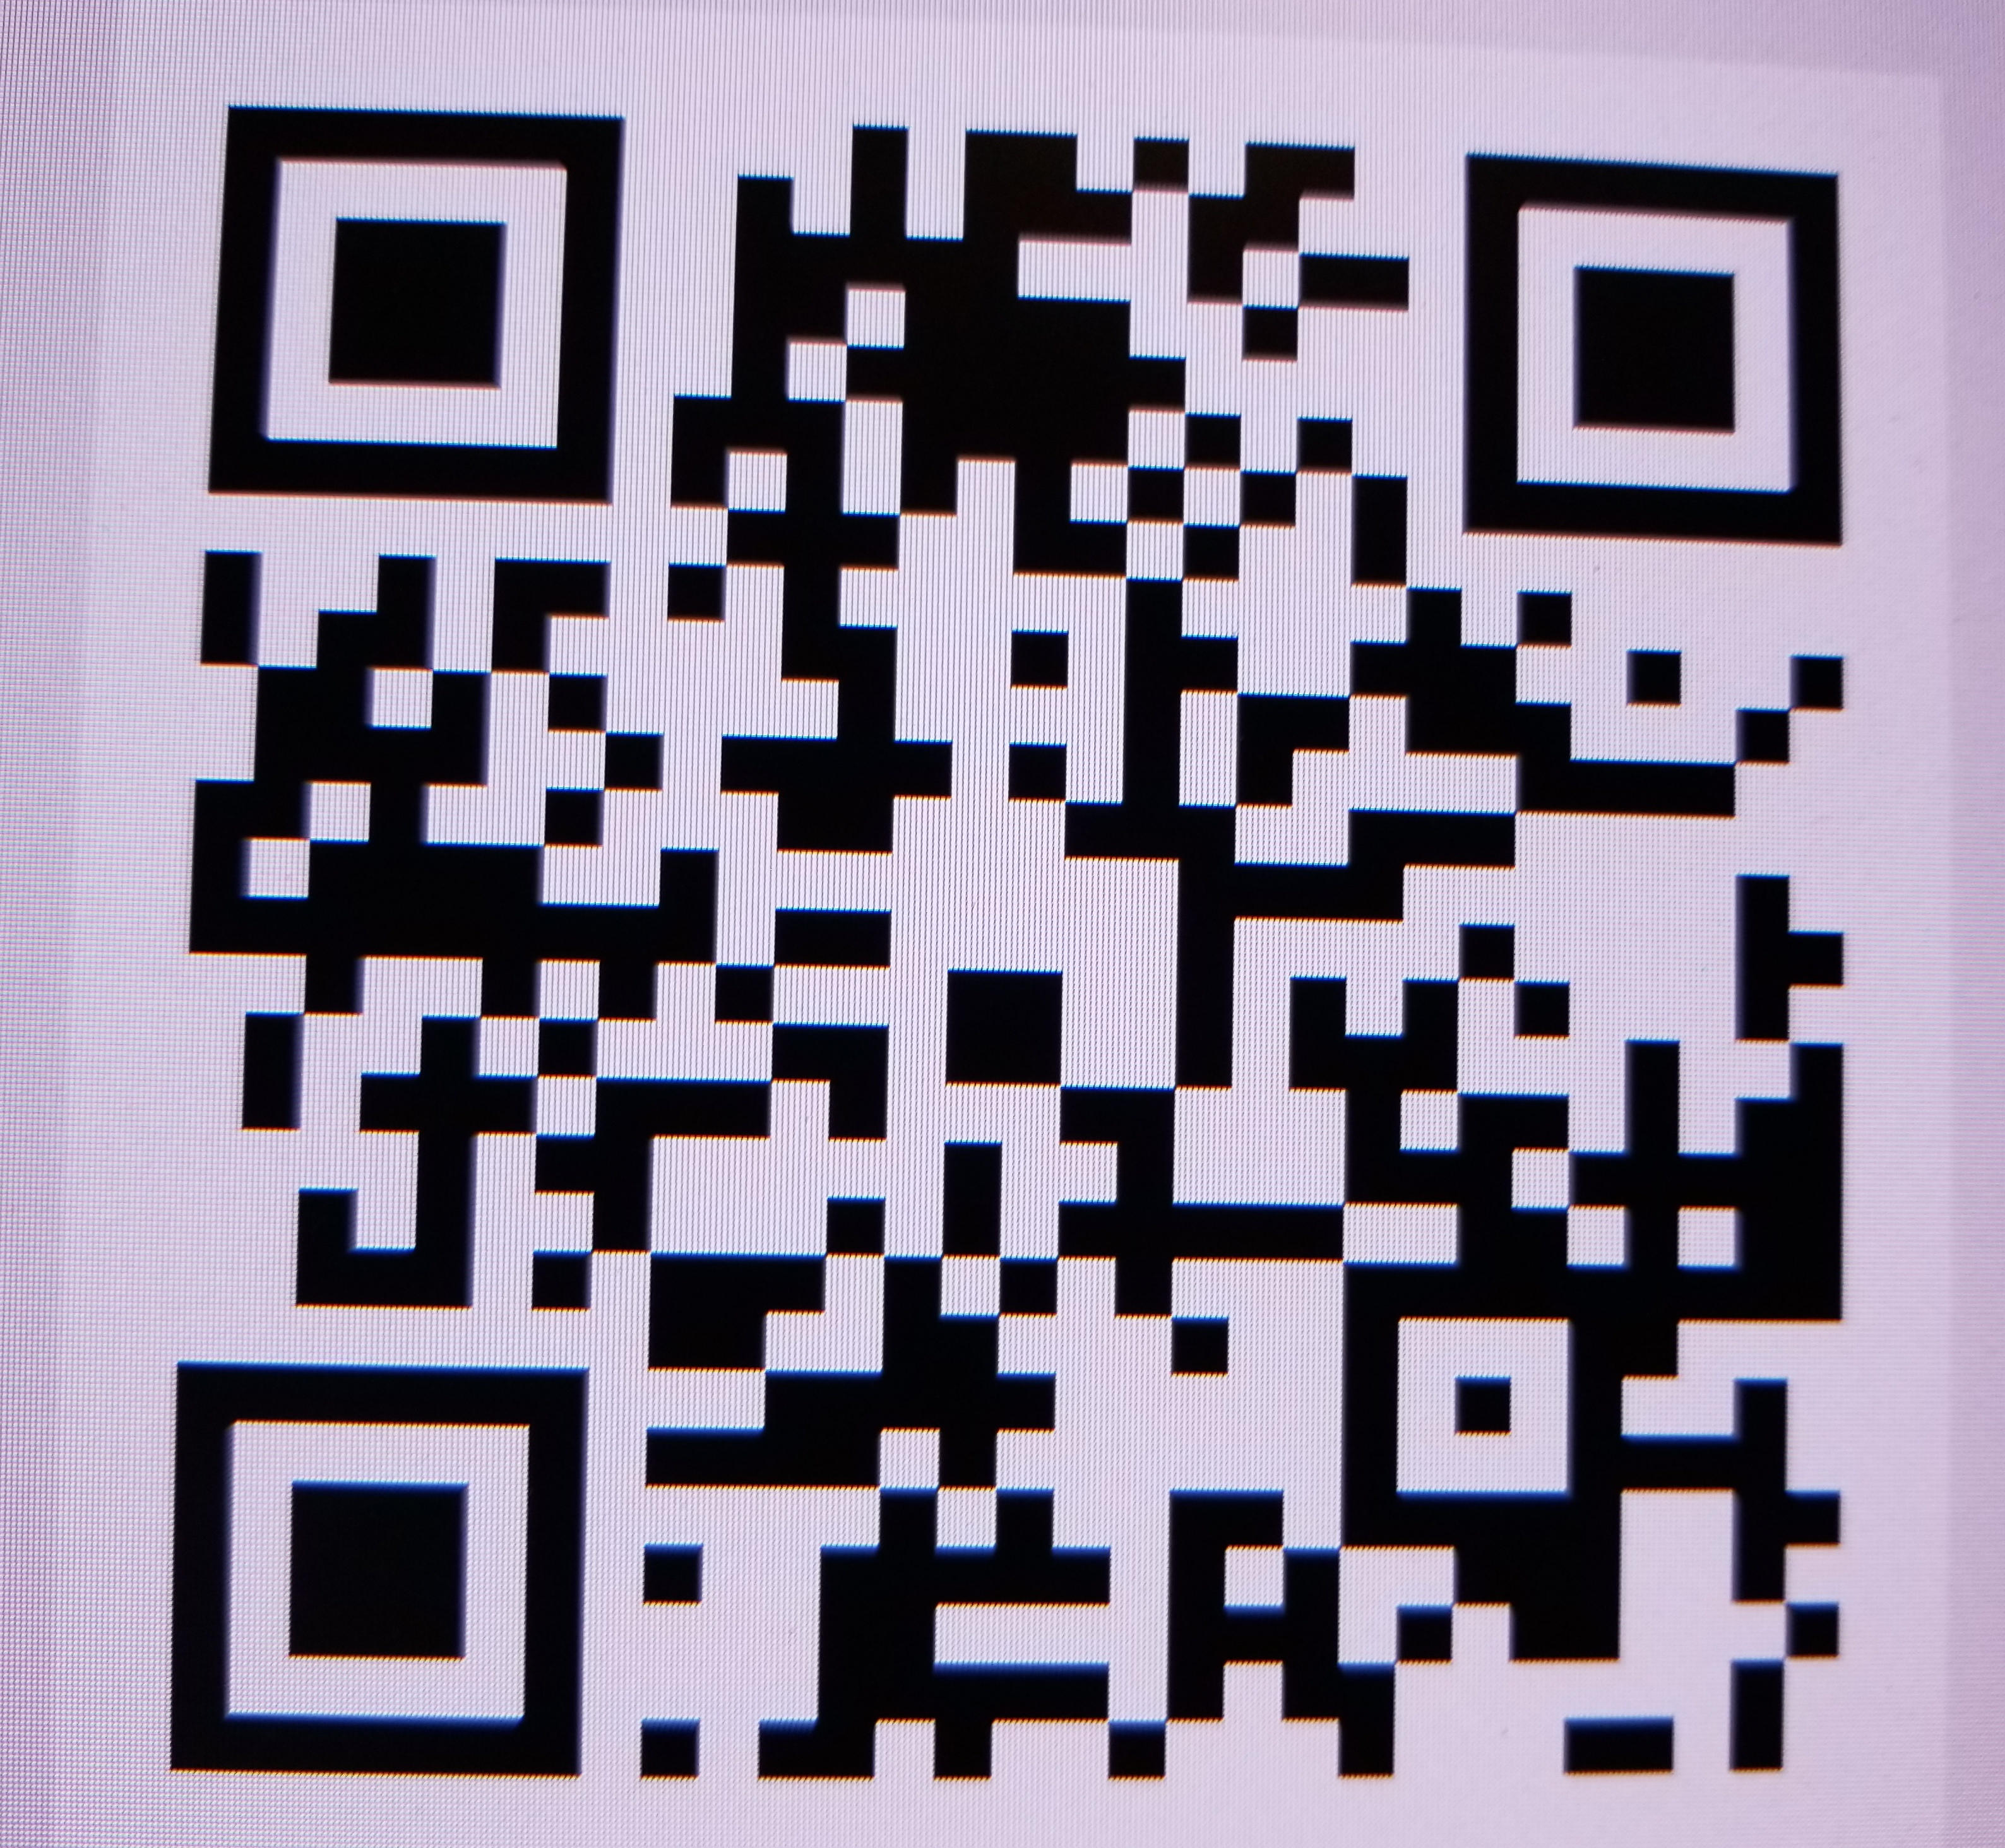QR_CODE: (101, 38, 1965, 1832)
